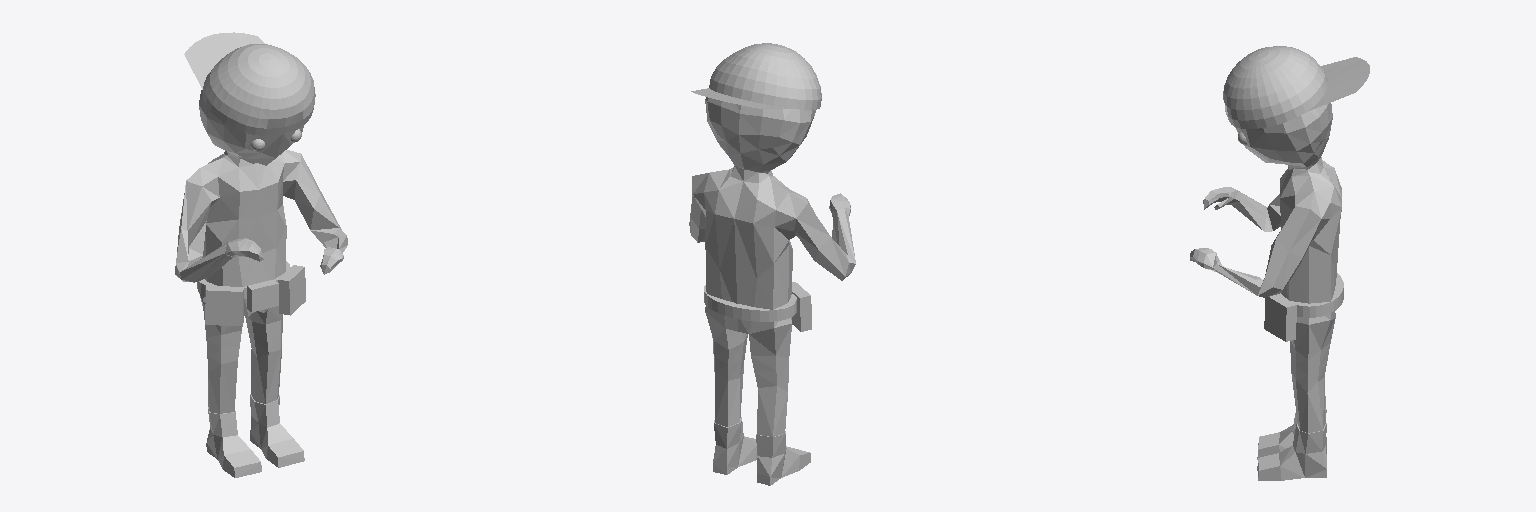
Rendered from Main_Character_Computer_5.obj.
The picture shows the model from 3 angles: view 1: azimuth 30°, elevation 25°; view 2: azimuth 150°, elevation 25°; view 3: azimuth 270°, elevation 25°; orthographic projection.
Visible parts, largest first — view 1: Main_Character_Test.003_Main_Character_Test.004; view 2: Main_Character_Test.003_Main_Character_Test.004; view 3: Main_Character_Test.003_Main_Character_Test.004.
Part boxes in pixels (x1,y1,x2,y2): Main_Character_Test.003_Main_Character_Test.004: (175, 32, 347, 477); Main_Character_Test.003_Main_Character_Test.004: (689, 43, 855, 485); Main_Character_Test.003_Main_Character_Test.004: (1190, 46, 1369, 480).
Size of the model in its own units: 1.64 by 3.93 by 1.56.